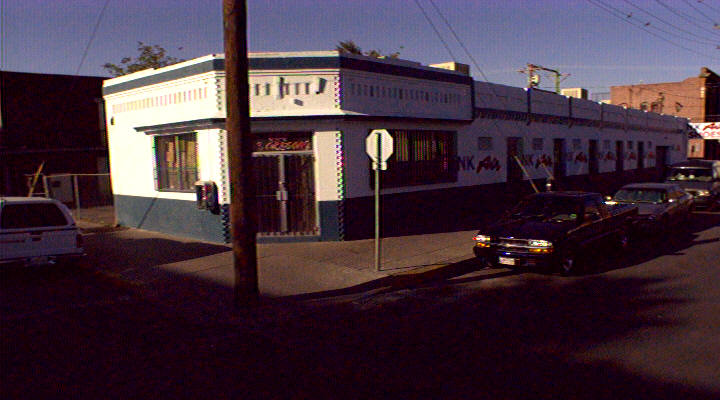Ramp: (161, 254, 400, 320)
